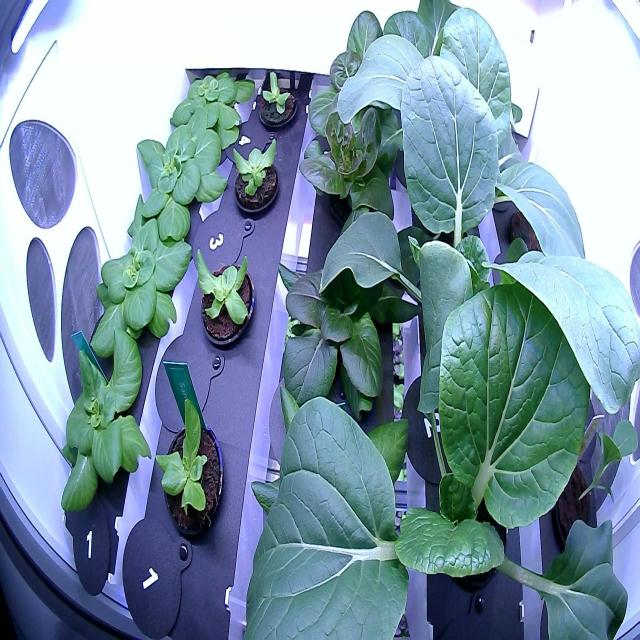young: (272, 195, 410, 414), (42, 328, 162, 526), (78, 189, 197, 363), (294, 71, 409, 237), (149, 384, 239, 549), (298, 1, 408, 132), (128, 118, 230, 242), (168, 54, 256, 145), (188, 240, 256, 354), (225, 129, 286, 221), (249, 62, 302, 138)
